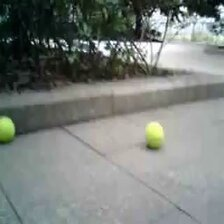tennis: (1, 115, 17, 144), (145, 122, 164, 145)
